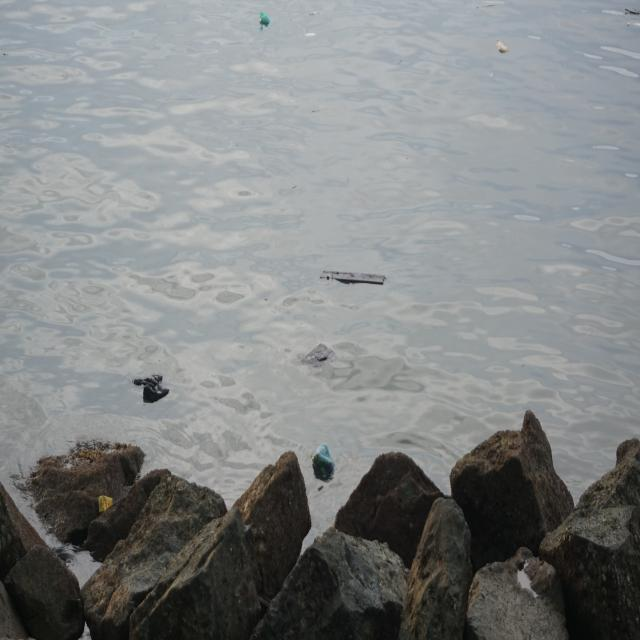Kantong Plastik: (132, 366, 170, 410), (308, 437, 339, 486), (256, 10, 276, 31)
